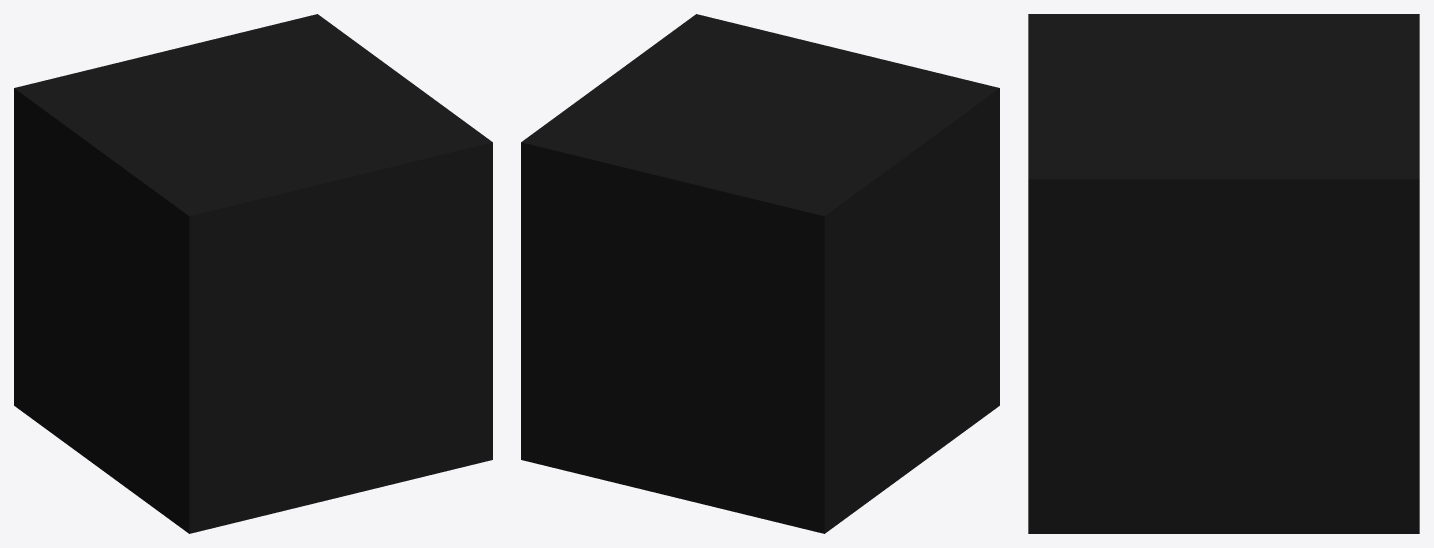
The model's file is fbx_light_3.fbx.
3 views of the same model, side by side, from view 1: azimuth 30°, elevation 25°; view 2: azimuth 150°, elevation 25°; view 3: azimuth 270°, elevation 25° (orthographic). The views are drawn at different scales.
Visible parts, largest first — view 1: fbx_light_3; view 2: fbx_light_3; view 3: fbx_light_3.
Boxes of the visible parts, x1,y1,x2,y2 form: fbx_light_3: (14,14,492,533); fbx_light_3: (521,14,999,533); fbx_light_3: (1028,14,1419,533).
Bounding box in the file's own units: 0.2595 × 0.2855 × 0.2595.
Materials: 1 (1 with a texture image).
